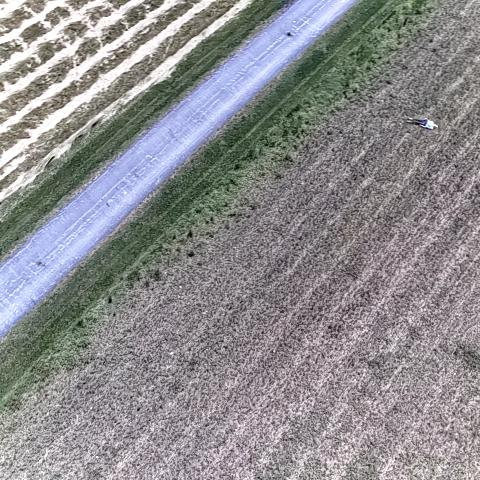person: (401, 111, 440, 133)
